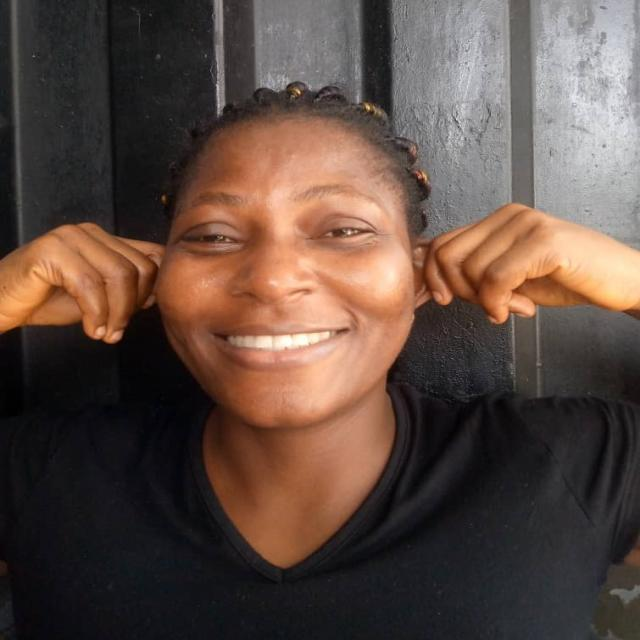happy: (142, 68, 428, 433)
